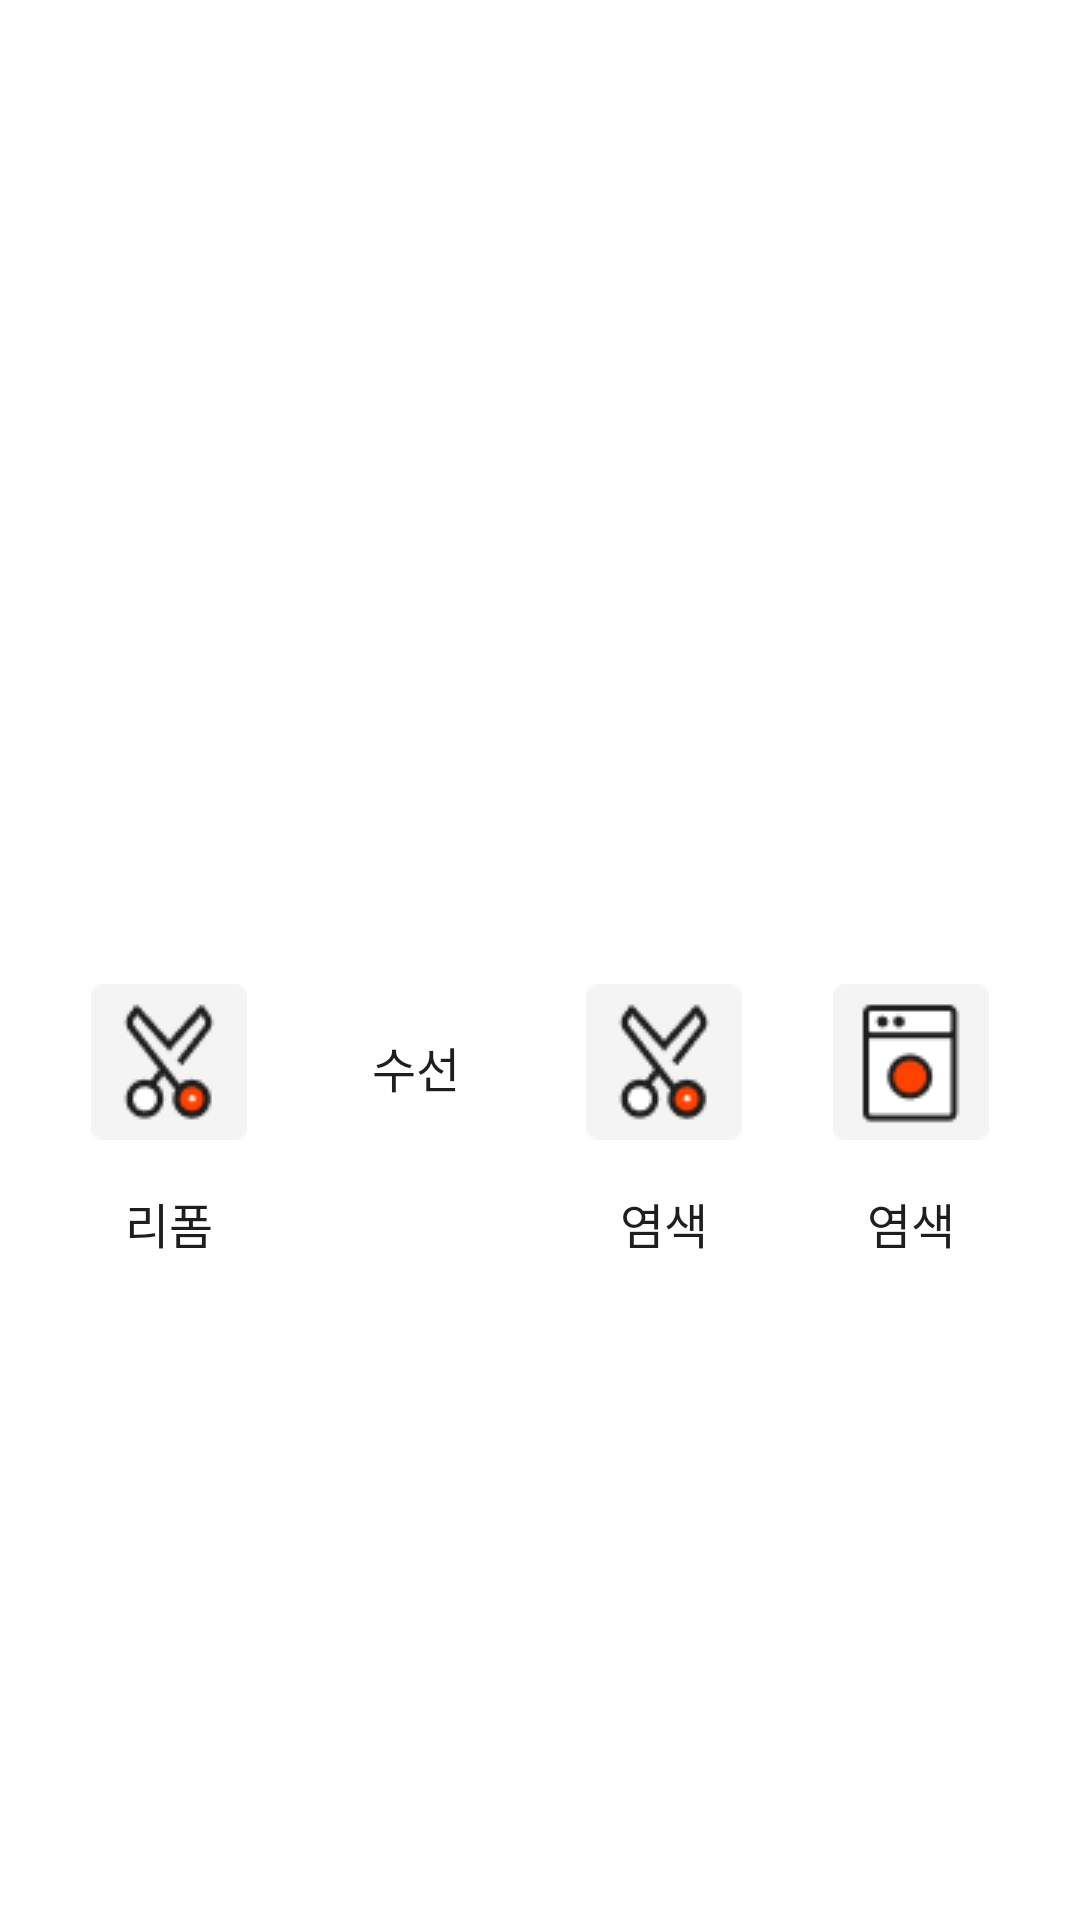

Icon bounding boxes for this 1080px×1920px phone screenshot, format bbox=(x1, y1, x2, y2):
cleaning: bbox=(862, 1004, 960, 1123)
reform: bbox=(123, 1004, 215, 1120), bbox=(618, 1004, 710, 1120)
